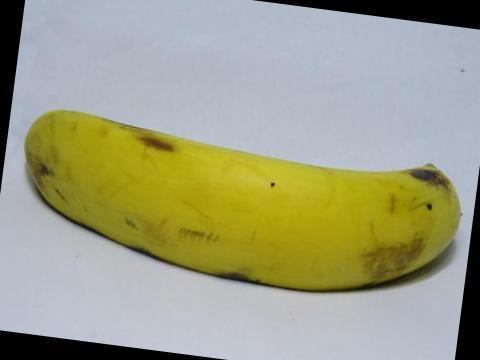freshripe: (6, 94, 479, 305)
